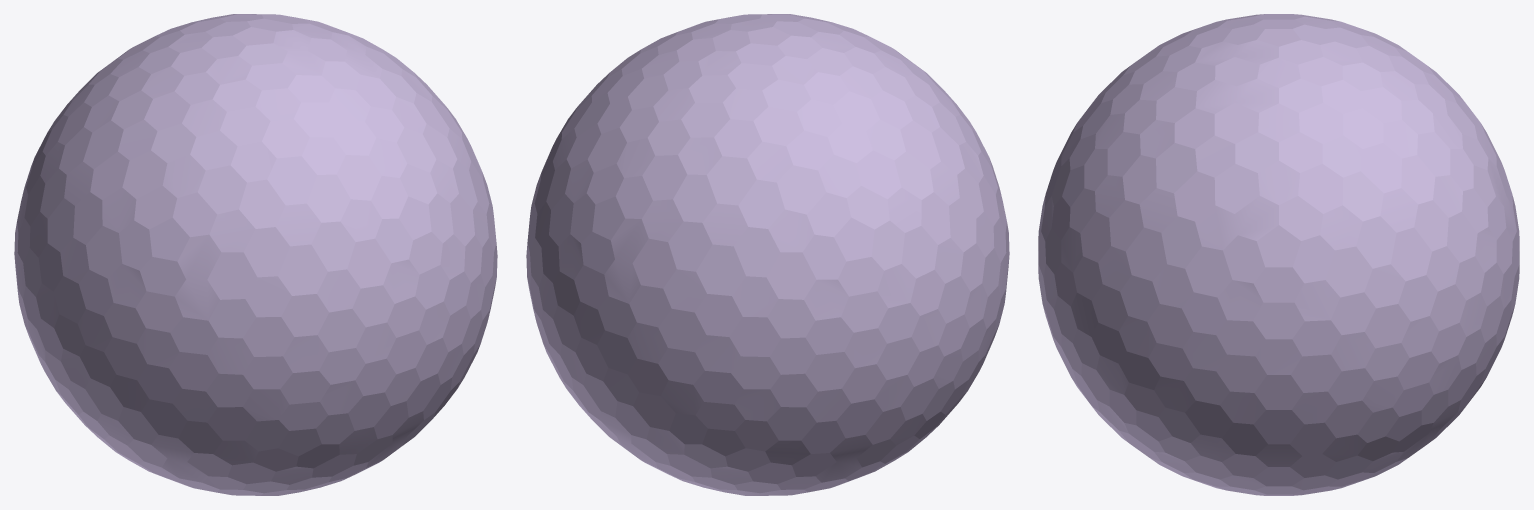
File: fx_haotianta_fangyuzhao.fbx
The picture shows the model from 3 angles, left to right: view 1: azimuth 30°, elevation 25°; view 2: azimuth 150°, elevation 25°; view 3: azimuth 270°, elevation 25°; orthographic projection.
Visible parts, largest first — view 1: fx_haotianta_fangyuta; view 2: fx_haotianta_fangyuta; view 3: fx_haotianta_fangyuta.
Part boxes in pixels (left/top/right/bottom): fx_haotianta_fangyuta: left=14, top=14, right=497, bottom=495; fx_haotianta_fangyuta: left=526, top=14, right=1009, bottom=495; fx_haotianta_fangyuta: left=1038, top=14, right=1519, bottom=495.
Bounding box in the file's own units: 73.86 × 73.89 × 73.89.
